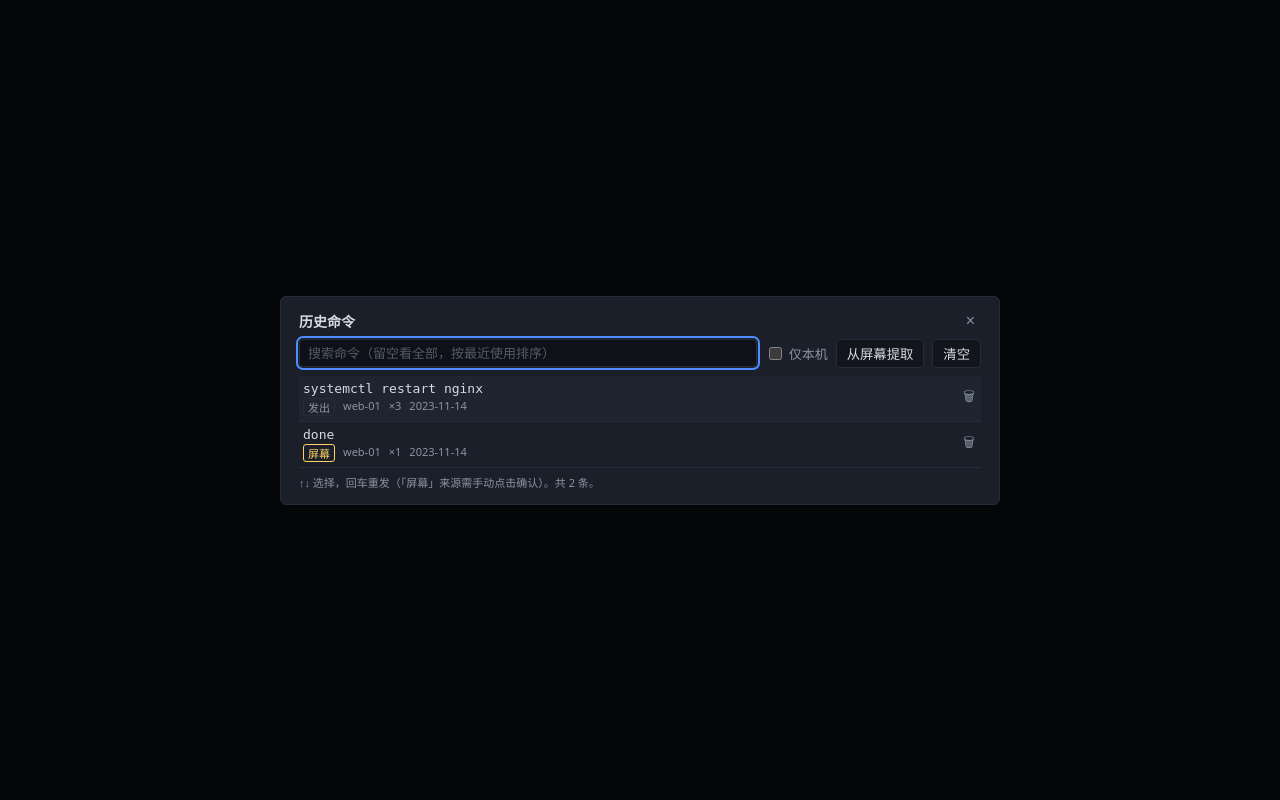
Test: HistoryDialog › 删除单条后从列表移除
Expected: the list with test id "hist-list" is shown, left=299, top=376, right=981, bottom=468
Step 1. Click the button with test id "hist-del-1" → (969, 398), box left=957, top=376, right=981, bottom=420
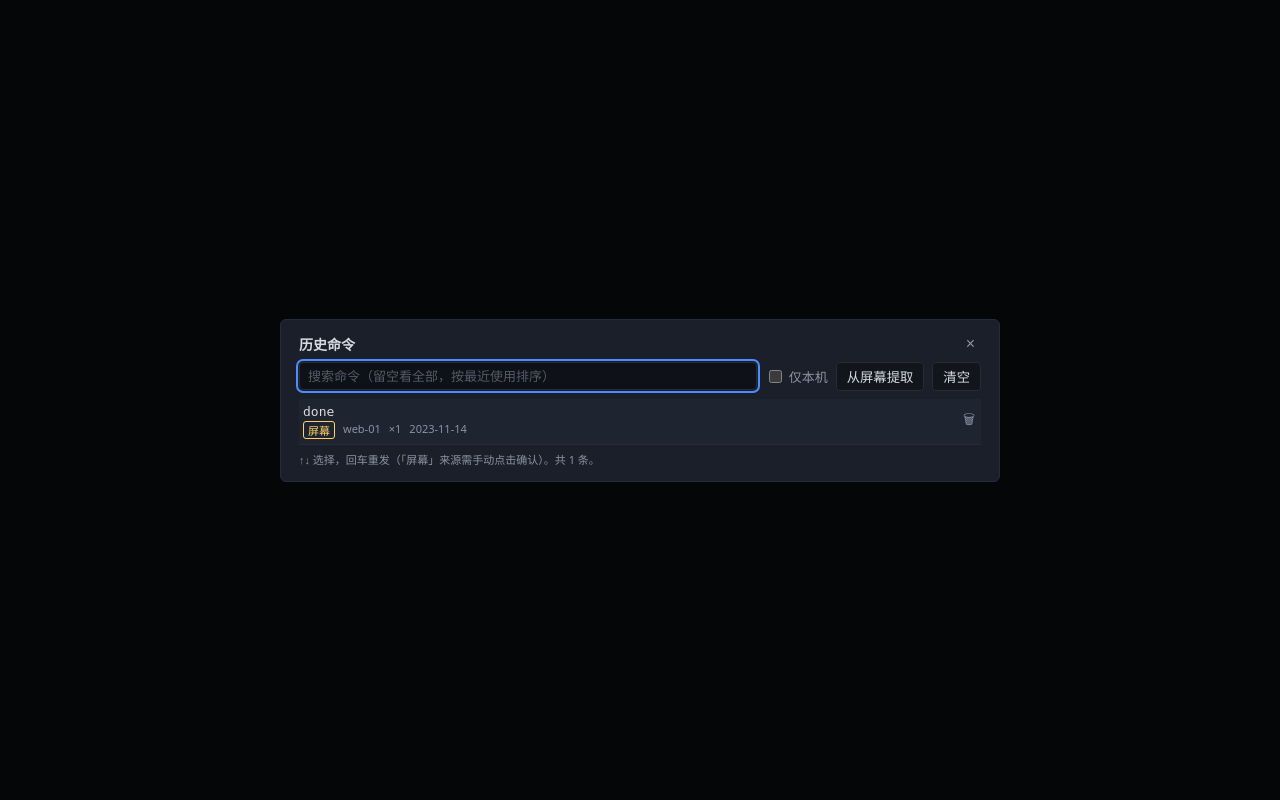
Now the button with test id "hist-send-1" is gone
